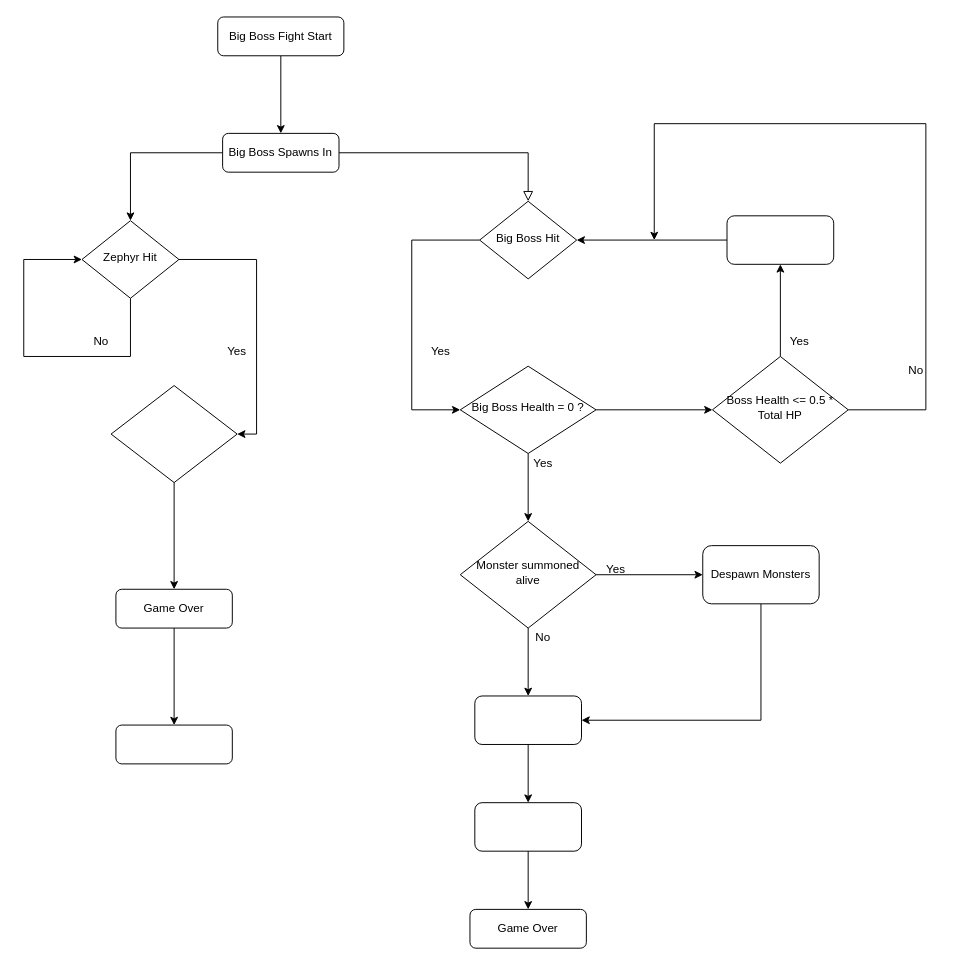
The diagram is 962 pixels wide and 965 high, and some of its shapes have lost their labels. The centre of each missing label's shape, as x and y in pixels:
"Respawn" goes at point (173, 744).
"Summon monsters" goes at point (780, 239).
"Transition To Victory Scene" goes at point (528, 826).
"Victory" goes at point (528, 719).
"Zephyr Health = 0?" goes at point (173, 434).
